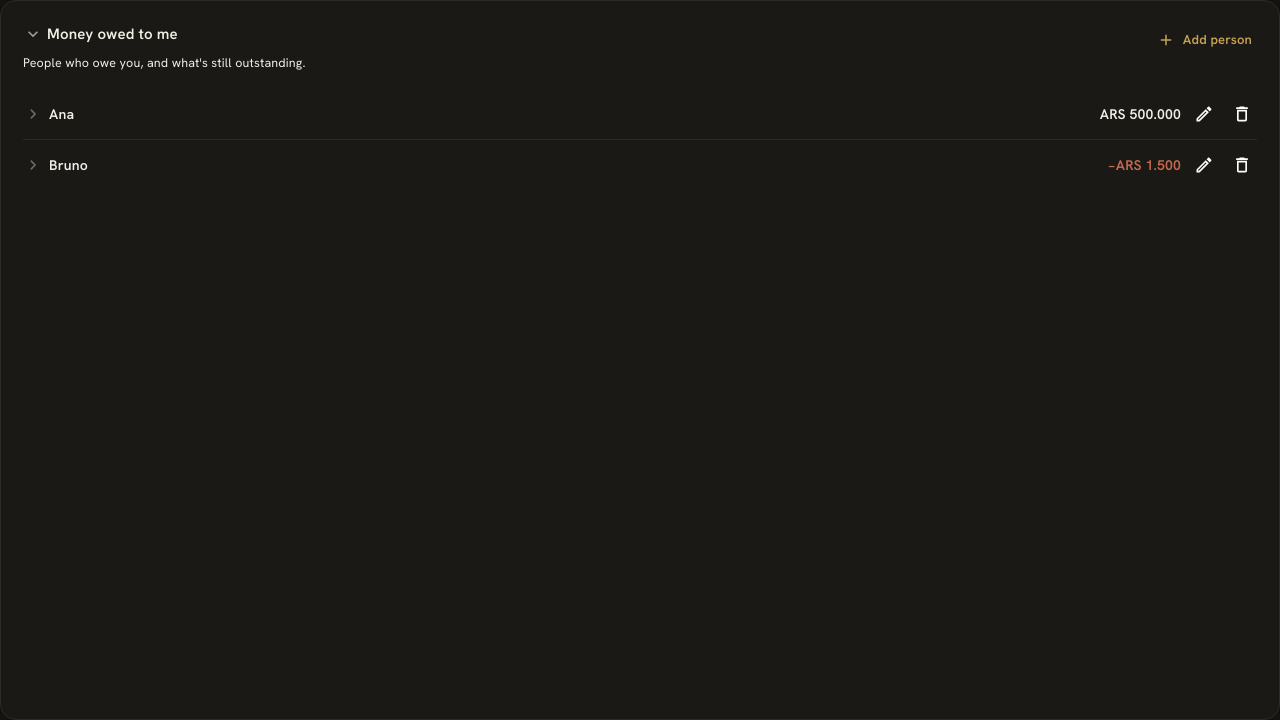
Test case: ReceivablesSection › expanding a person lists their items with amount + remaining
The image size is (1280, 720).
Expected: the text "Ana" is shown, [49,104,74,124]
Click the button with aria-label "Show Ana's items".
click(1140, 114)  # box [23,104,1181,124]
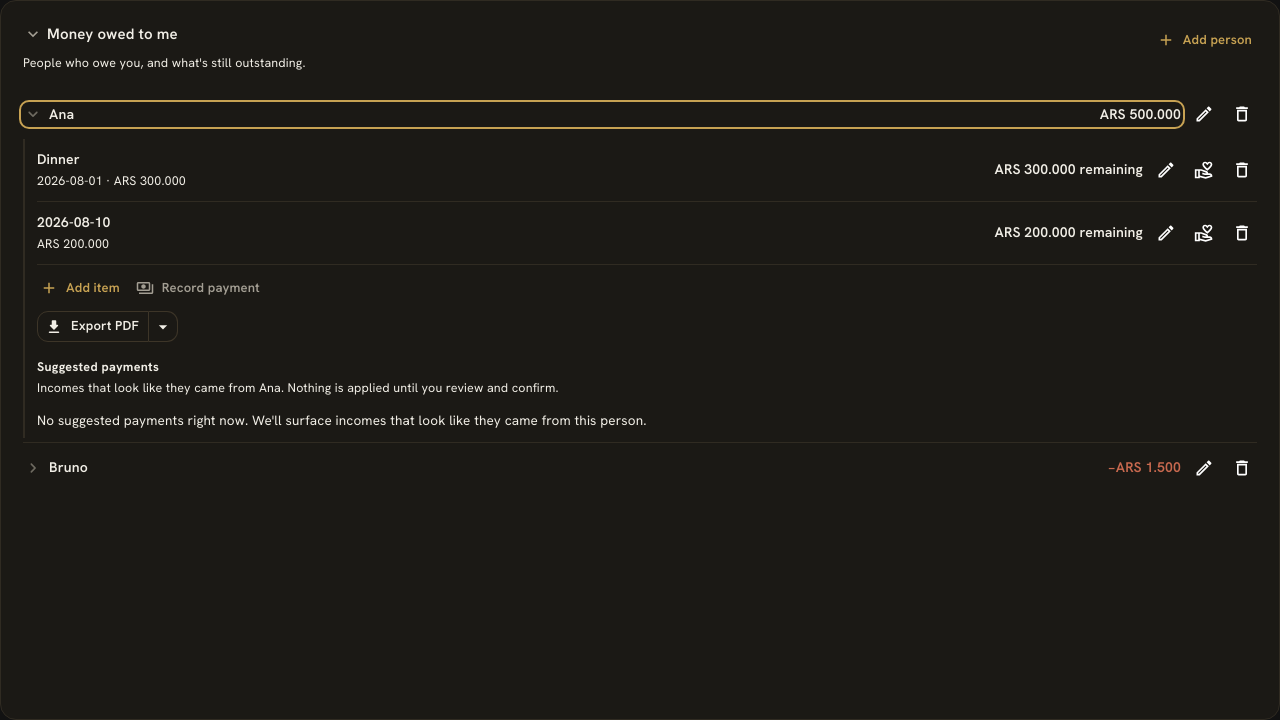
Now the text "Dinner" is shown, box [37,149,80,170]
